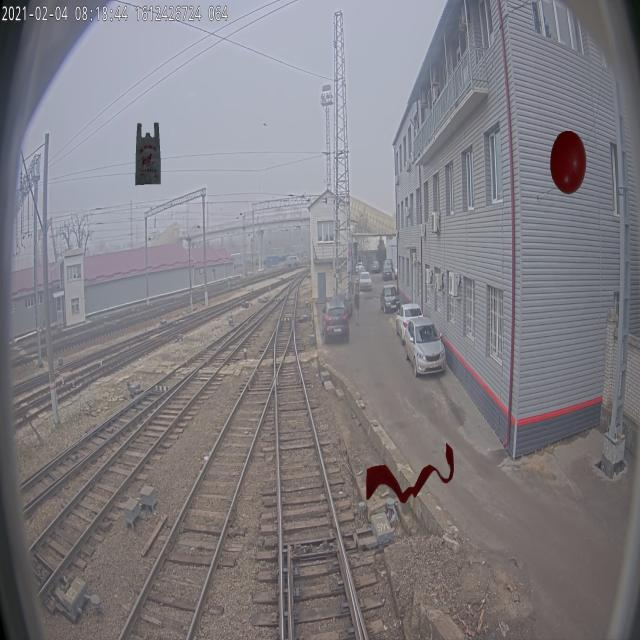balloon: (550, 130, 586, 194)
floating object: (365, 441, 455, 505)
plastic bag: (135, 121, 161, 186)
